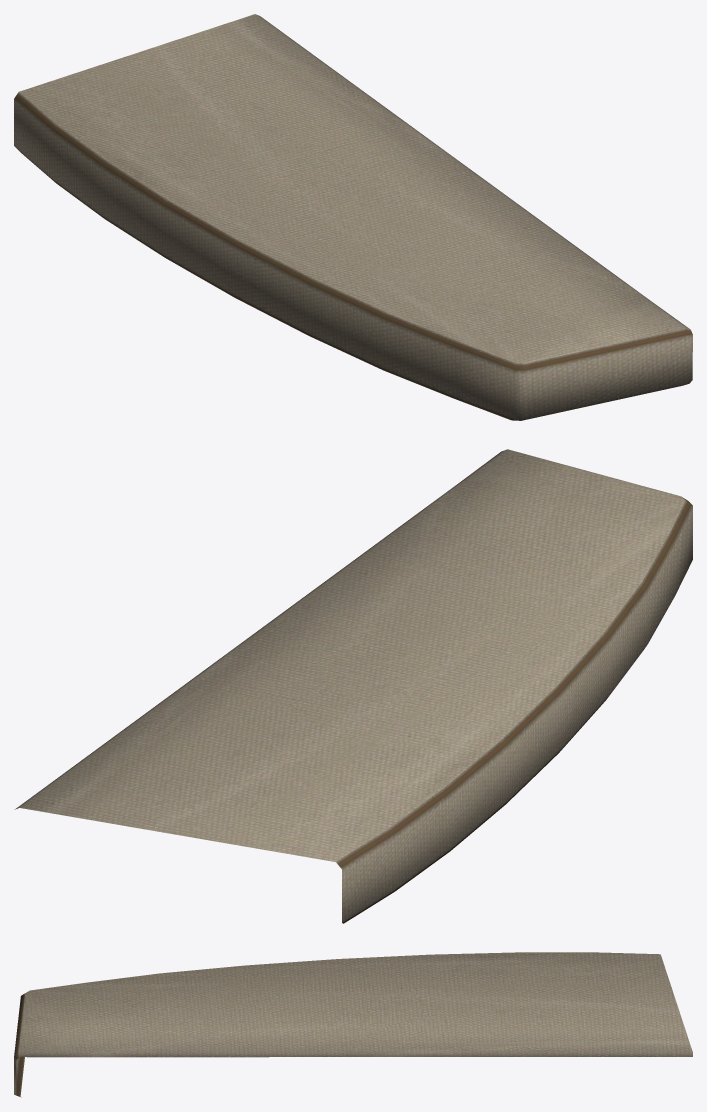
File: p6_cushion_boat_back_left_lod0.glb
3 views of the same model, one above another, from view 1: azimuth 30°, elevation 25°; view 2: azimuth 150°, elevation 25°; view 3: azimuth 270°, elevation 25° (orthographic). The views are drawn at different scales.
Parts seen in each view (by area): view 1: surf0; view 2: surf0; view 3: surf0.
Boxes of the visible parts, left/top/right/bottom form: surf0: left=14, top=14, right=692, bottom=420; surf0: left=14, top=449, right=692, bottom=923; surf0: left=14, top=952, right=692, bottom=1097.
Size of the model in its own units: 40.28 by 8.1 by 111.
